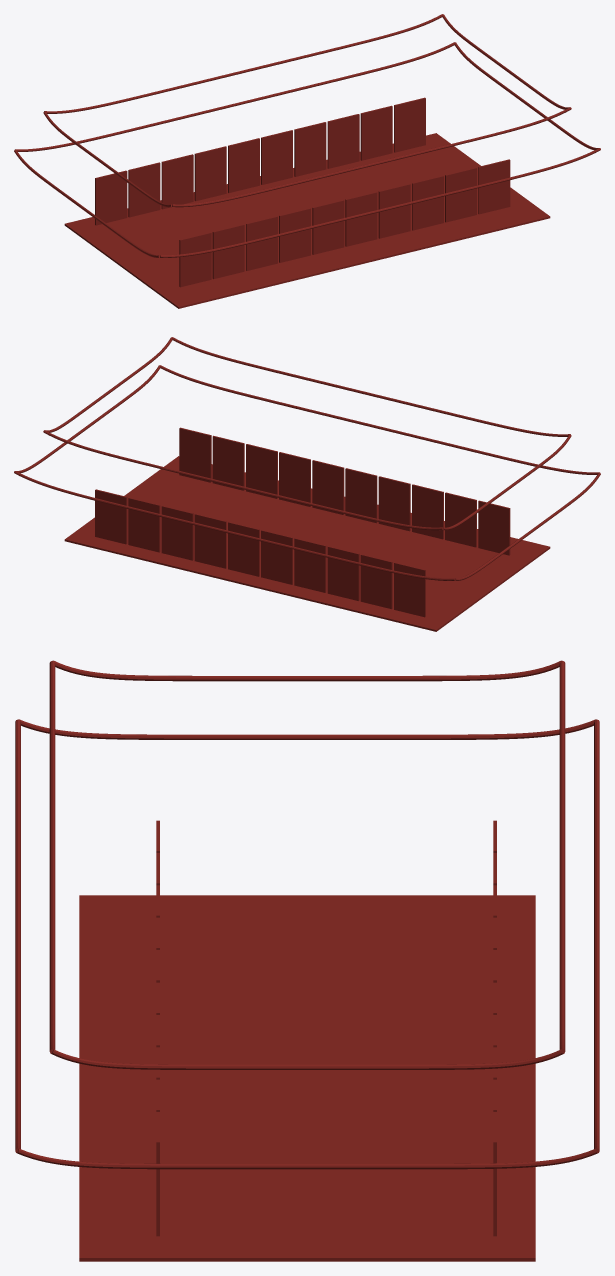
Rendered from SM_05_darkred.fbx.
3 renders of one model, top to bottom at view 1: azimuth 30°, elevation 25°; view 2: azimuth 150°, elevation 25°; view 3: azimuth 270°, elevation 25°, orthographic. The views are drawn at different scales.
Visible parts, largest first — view 1: darkred; view 2: darkred; view 3: darkred.
Boxes of the visible parts, x1=… form: darkred: x1=14, y1=14, x2=600, y2=308; darkred: x1=14, y1=337, x2=600, y2=631; darkred: x1=15, y1=660, x2=599, y2=1261.
Bounding box in the file's own units: 5330 × 3050 × 1297.
